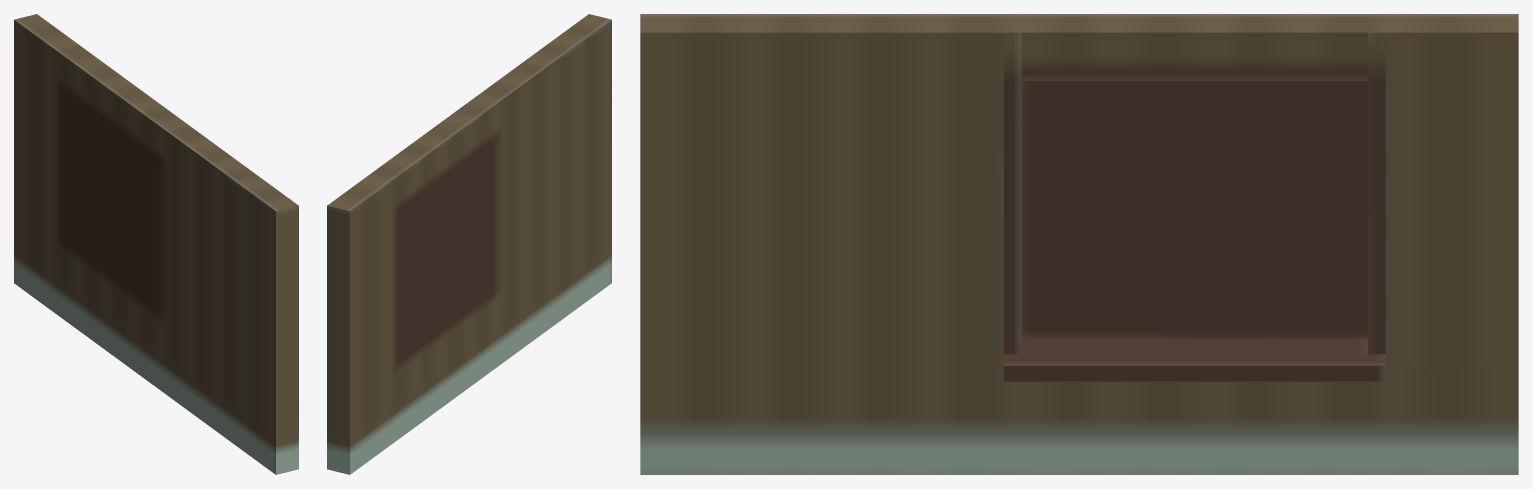
The model's file is WallpaperDarkBrownBackShort_00.fbx.
3 views of the same model, side by side, from view 1: azimuth 30°, elevation 25°; view 2: azimuth 150°, elevation 25°; view 3: azimuth 270°, elevation 25° (orthographic). The views are drawn at different scales.
Parts seen in each view (by area): view 1: WallpaperDarkBrownBackShort_00; view 2: WallpaperDarkBrownBackShort_00; view 3: WallpaperDarkBrownBackShort_00.
Boxes of the visible parts, bbox=[...] form: WallpaperDarkBrownBackShort_00: bbox=[14, 14, 298, 474]; WallpaperDarkBrownBackShort_00: bbox=[327, 14, 611, 474]; WallpaperDarkBrownBackShort_00: bbox=[640, 14, 1518, 474].
Size of the model in its own units: 40 by 495 by 275.
Materials: 1 (1 with a texture image).
